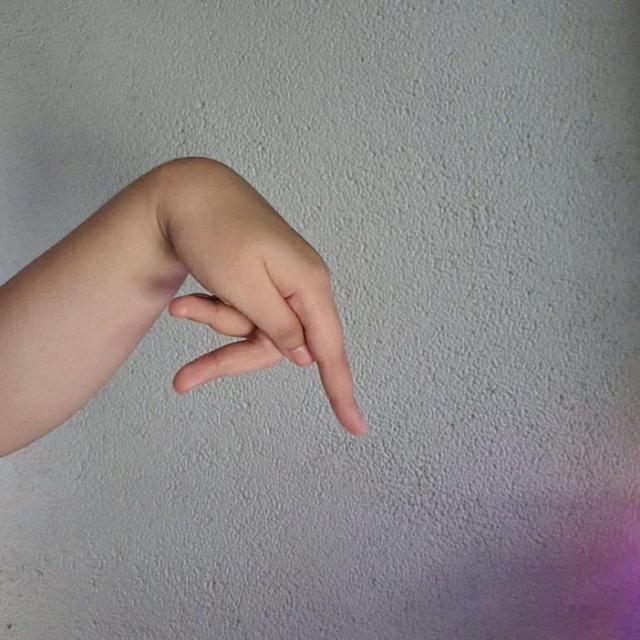P: (168, 156, 373, 439)
